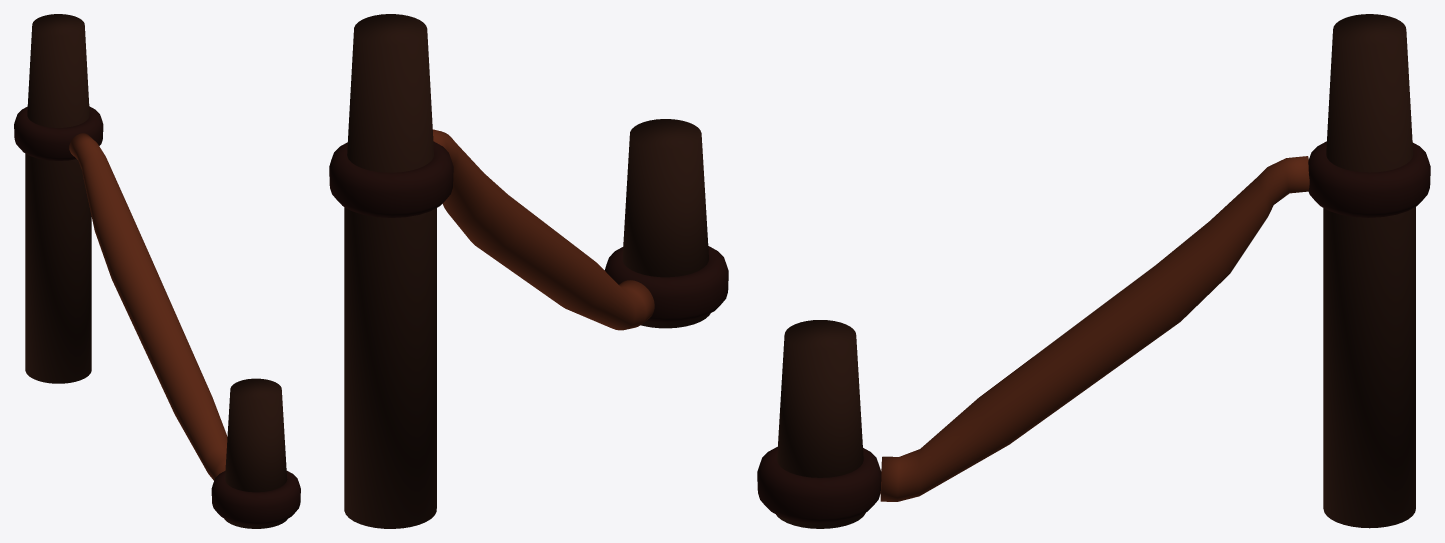
The model's file is fence_wood.obj.
3 renders of one model, left to right at view 1: azimuth 30°, elevation 25°; view 2: azimuth 150°, elevation 25°; view 3: azimuth 270°, elevation 25°, orthographic. The views are drawn at different scales.
Parts seen in each view (by area): view 1: fence_wood; view 2: fence_wood; view 3: fence_wood.
Part boxes in pixels (x1,y1,x2,y2): fence_wood: (14,14,300,528); fence_wood: (329,14,728,528); fence_wood: (757,14,1430,528).
Bounding box in the file's own units: 1.14 × 4.84 × 6.16.
